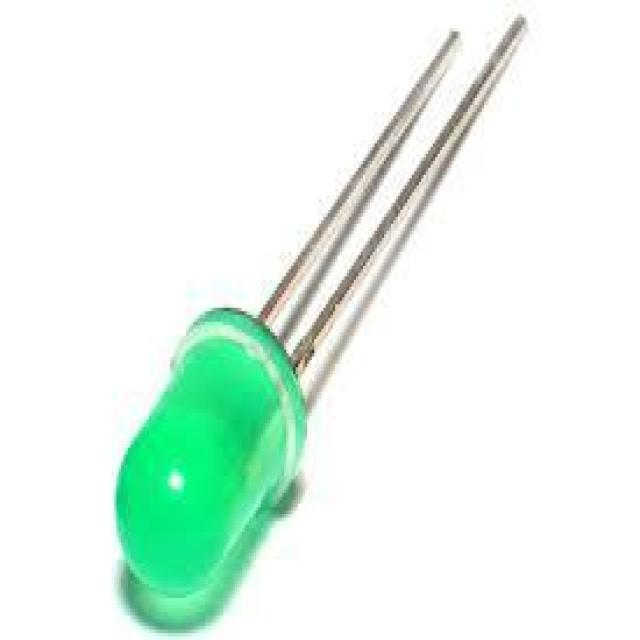Led: (116, 17, 522, 625)
